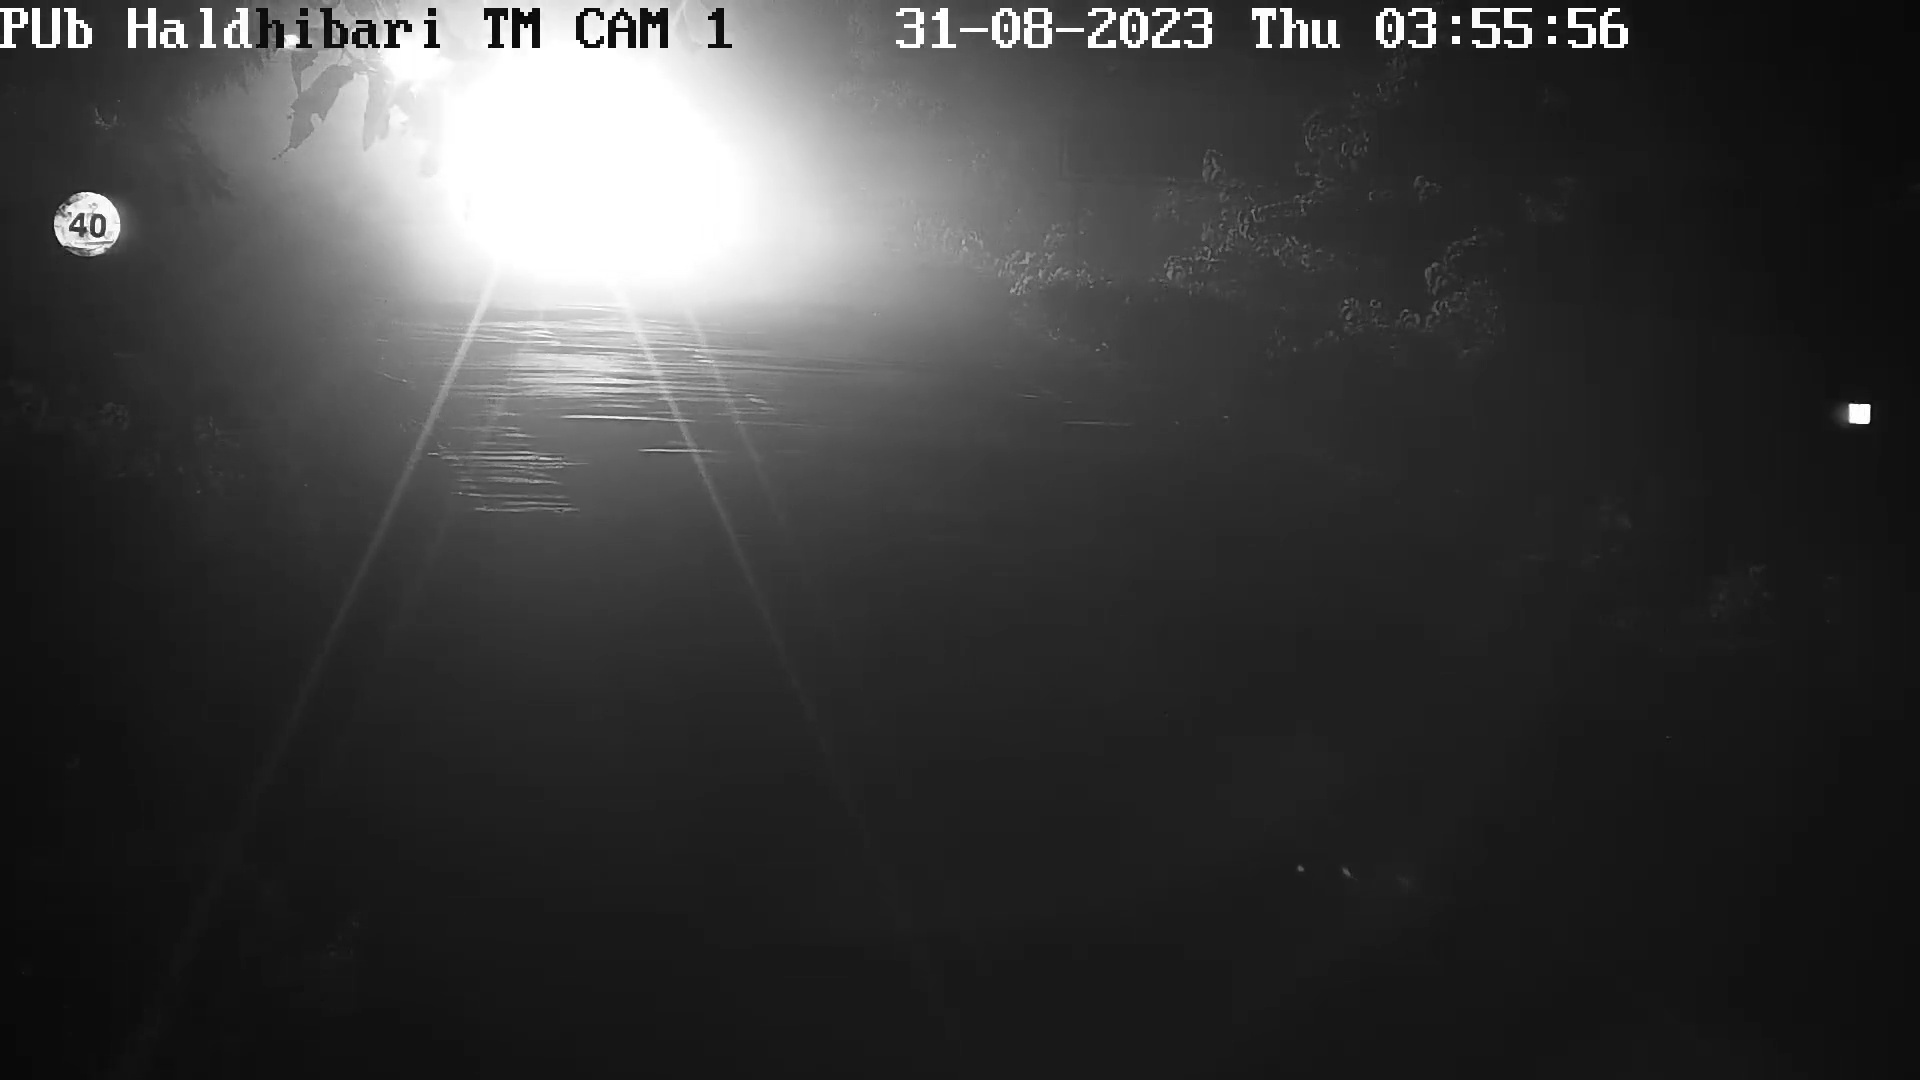deers: (347, 351, 427, 414)
